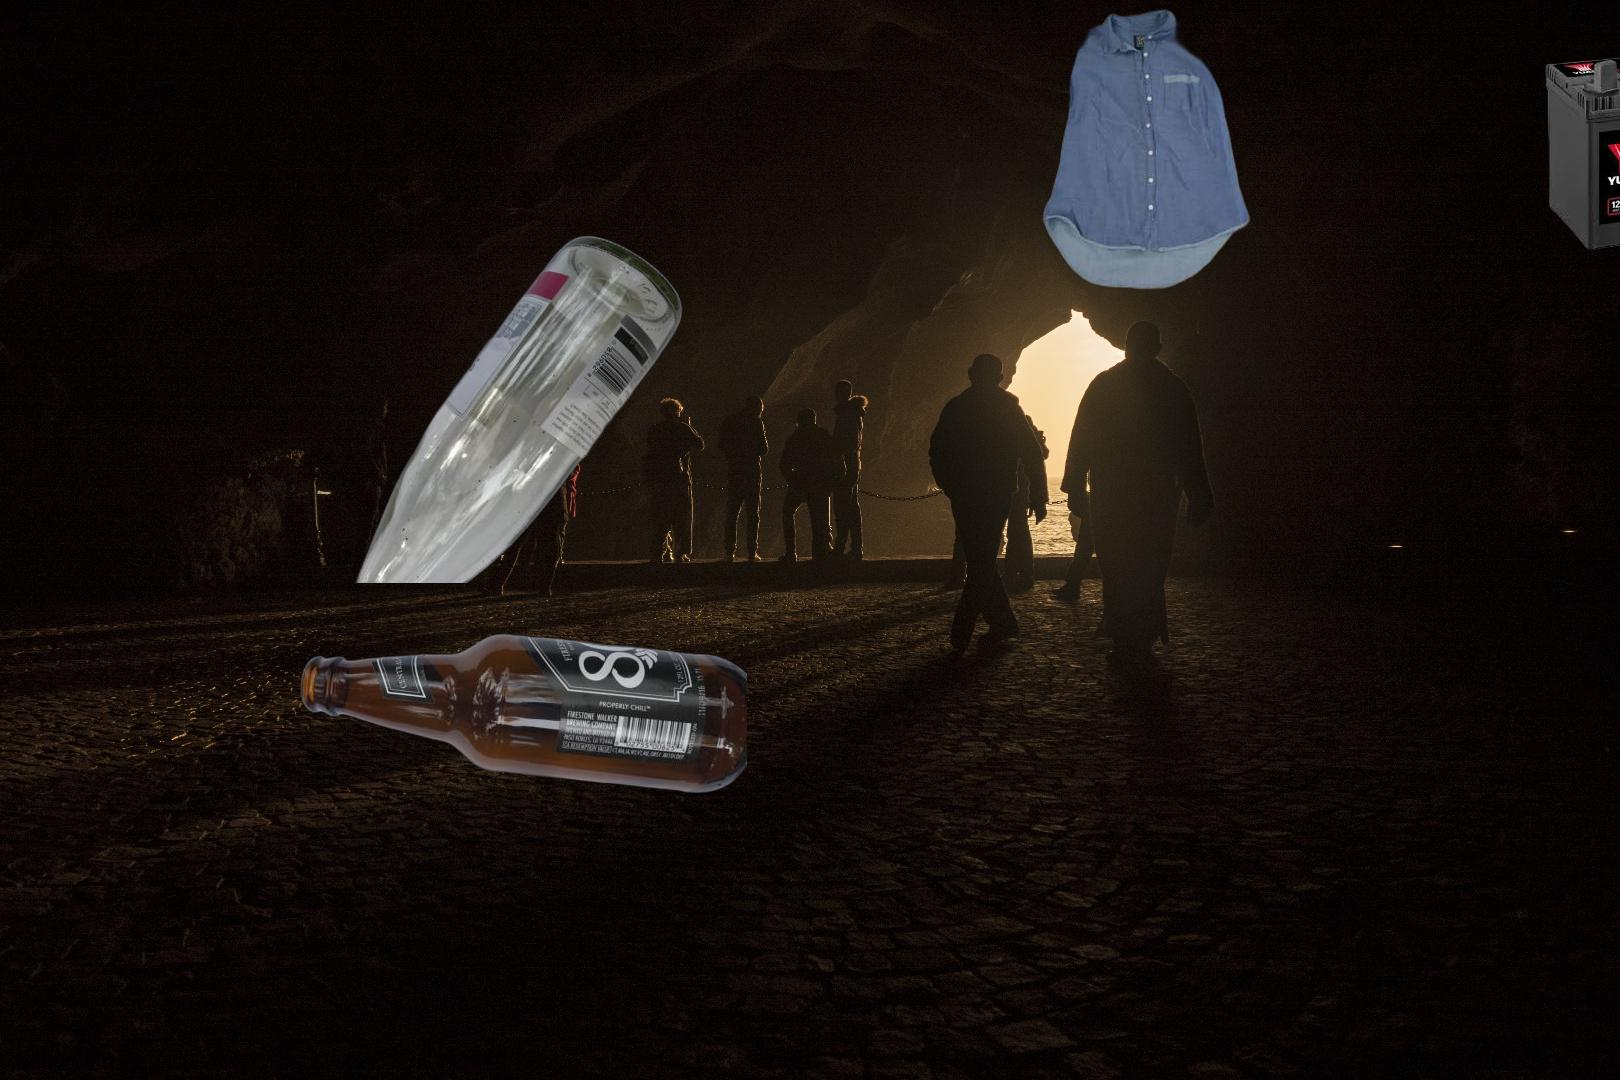battery: (1545, 45, 1620, 253)
clothes: (1039, 4, 1254, 295)
glass: (350, 231, 687, 583), (297, 630, 747, 796)
